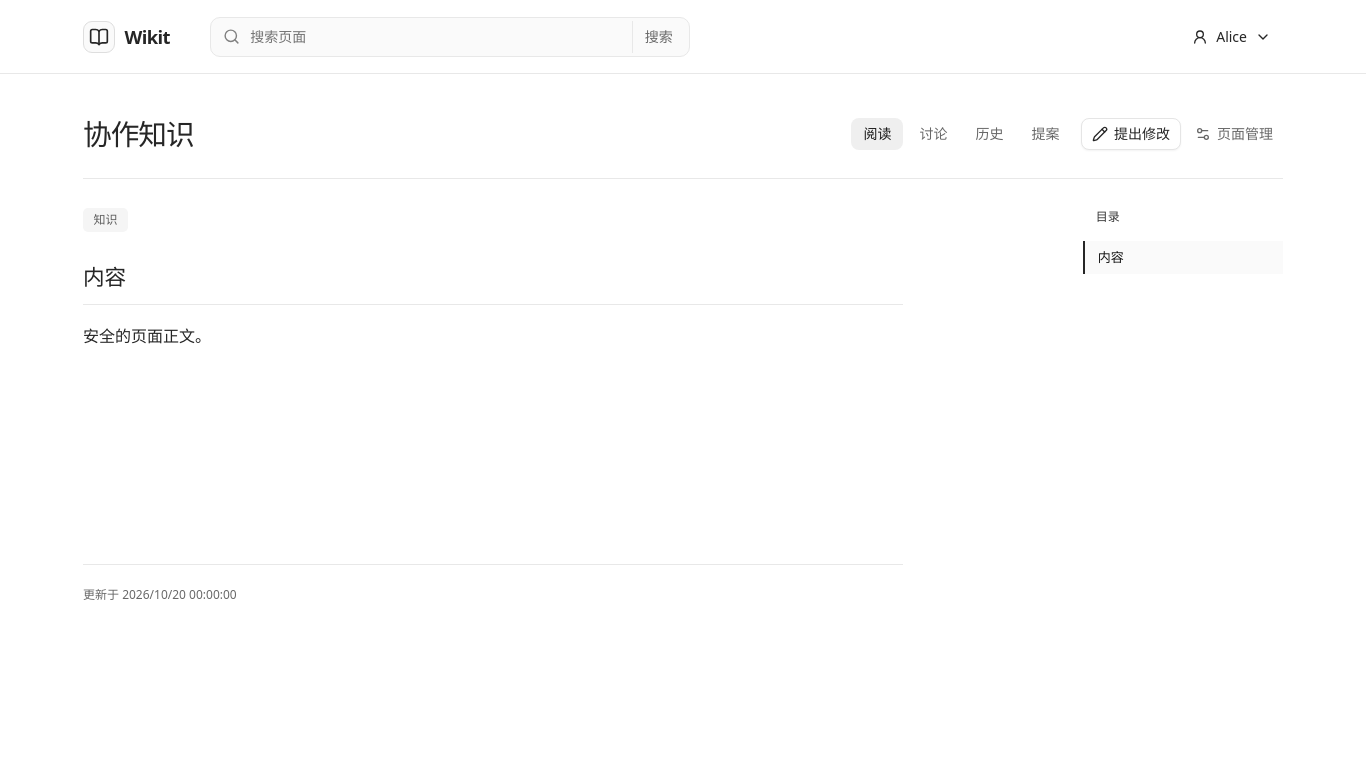
it: keeps page-specific navigation accessible without a global create link
Check: the heading "协作知识" is shown, box [83,114,194,153]
Click the link "提案".
click(1045, 134)  # box [1031,124,1059,143]
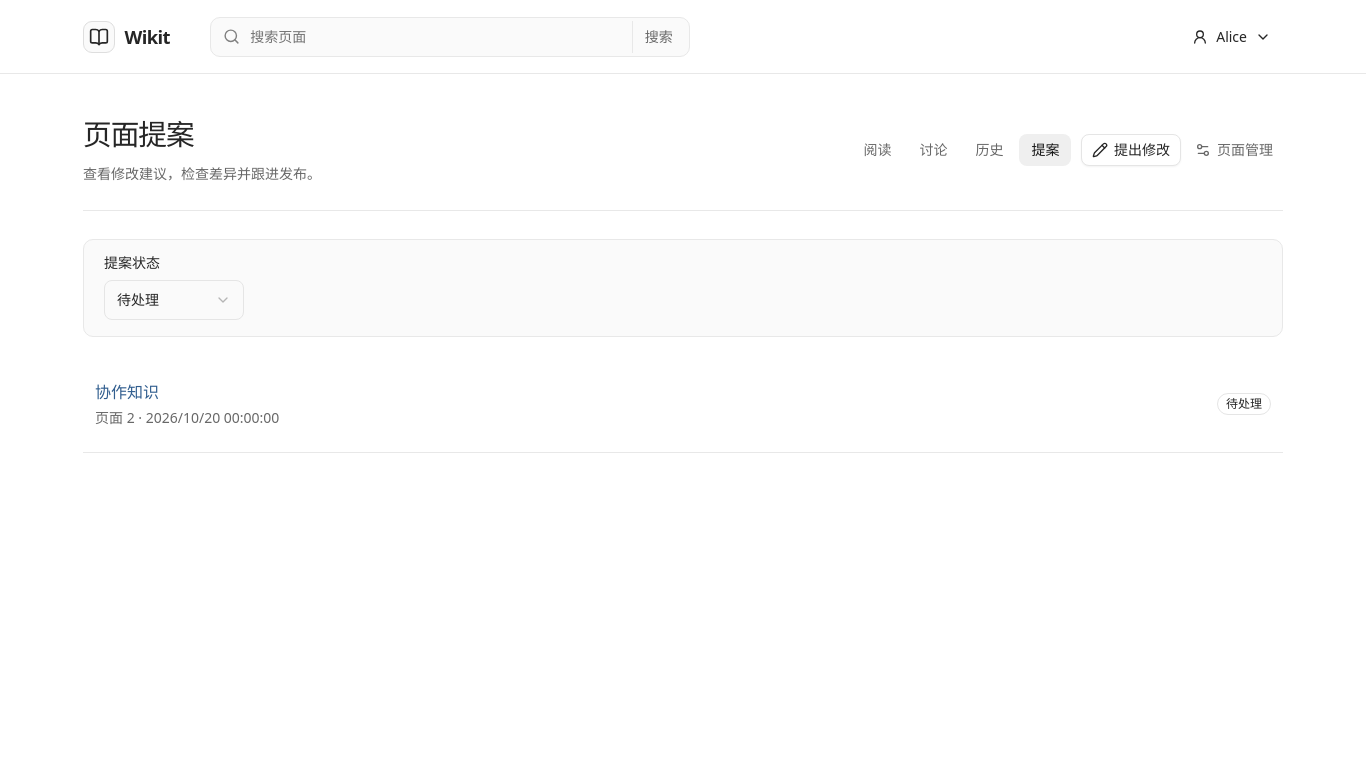
Check: the heading "页面提案" is shown, box [83,114,194,153]
